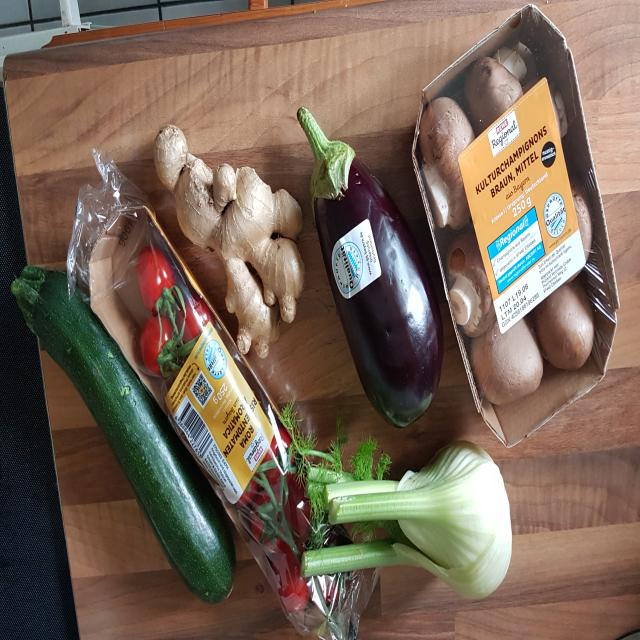Mushroom: (422, 97, 484, 227), (466, 310, 544, 405), (536, 274, 597, 378), (468, 39, 533, 131), (446, 227, 497, 335), (567, 176, 595, 271), (546, 87, 572, 146)
Tomato: (135, 242, 177, 320), (138, 310, 178, 376), (248, 491, 285, 560), (262, 418, 298, 486), (174, 291, 212, 354), (288, 474, 320, 539), (279, 560, 311, 620), (230, 466, 260, 514)
